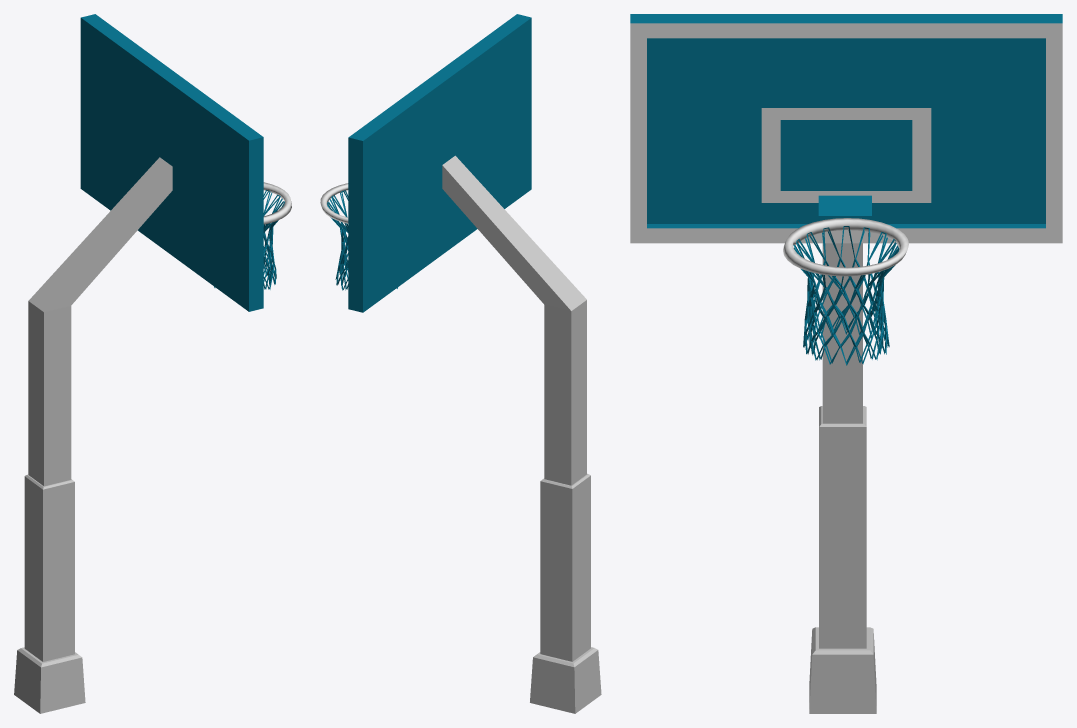
The model's file is Hoop physics.fbx.
3 renders of one model, left to right at view 1: azimuth 30°, elevation 25°; view 2: azimuth 150°, elevation 25°; view 3: azimuth 270°, elevation 25°, orthographic. The views are drawn at different scales.
Visible parts, largest first — view 1: Plane.007, Cube.011, Cylinder.005, Circle.004, Cylinder.004; view 2: Plane.007, Cube.011, Cylinder.005, Circle.004, Cylinder.004; view 3: Plane.007, Cube.011, Cylinder.005, Cylinder.004, Circle.004, Cube.010.
Part boxes in pixels (<box>): Plane.007: <box>80,14,263,311</box>; Cube.011: <box>14,157,172,713</box>; Cylinder.005: <box>214,190,284,289</box>; Circle.004: <box>263,182,291,224</box>; Cylinder.004: <box>263,191,282,289</box>; Plane.007: <box>348,14,531,312</box>; Cube.011: <box>442,155,601,713</box>; Cylinder.005: <box>327,190,397,290</box>; Circle.004: <box>320,183,348,223</box>; Cylinder.004: <box>327,191,348,290</box>; Plane.007: <box>630,14,1062,243</box>; Cube.011: <box>809,243,876,713</box>; Cylinder.005: <box>794,226,899,365</box>; Cylinder.004: <box>793,230,898,363</box>; Circle.004: <box>783,218,908,276</box>; Cube.010: <box>818,195,871,220</box>.
Bounding box in the file's own units: 77.91 × 170 × 87.6.
